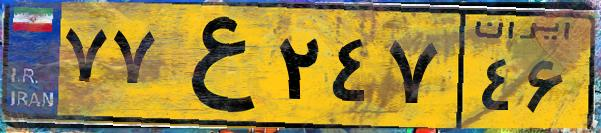2: (270, 28, 330, 110)
4: (330, 28, 385, 110), (475, 38, 525, 113)
6: (525, 38, 570, 115)
7: (385, 28, 445, 110), (57, 26, 110, 100), (110, 28, 158, 98)
ع: (158, 12, 270, 120)
